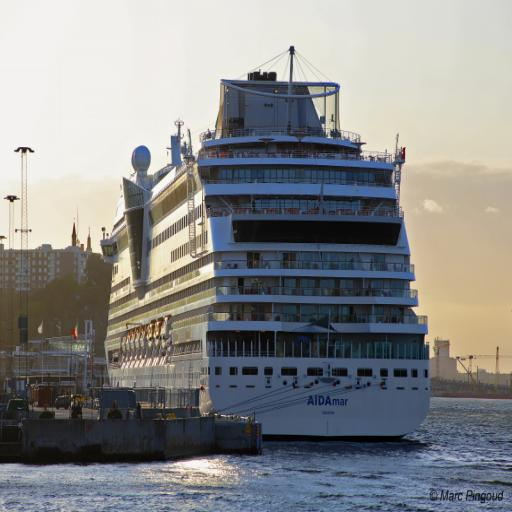cruises: (99, 42, 436, 458)
